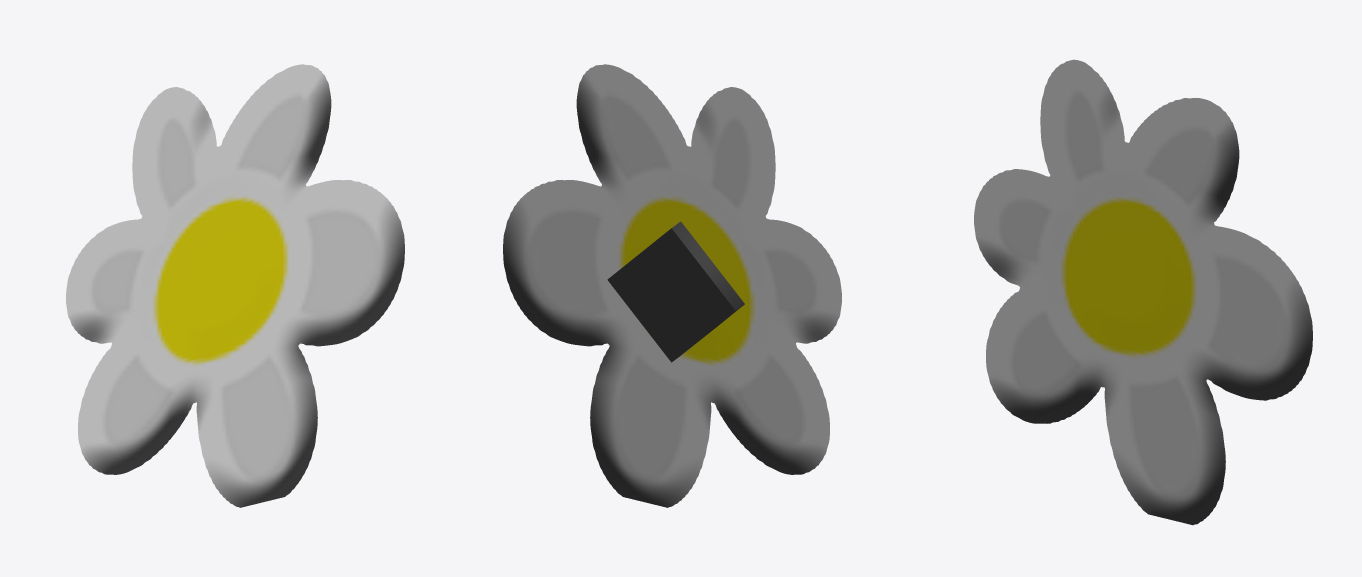
Rendered from Magnet_B.FBX.
3 views of the same model, side by side, from view 1: azimuth 30°, elevation 25°; view 2: azimuth 150°, elevation 25°; view 3: azimuth 330°, elevation 25° (orthographic).
Parts seen in each view (by area): view 1: Fridge_Magnet; view 2: Fridge_Magnet; view 3: Fridge_Magnet.
Part boxes in pixels (left/top/right/bottom): Fridge_Magnet: left=66, top=64, right=404, bottom=507; Fridge_Magnet: left=503, top=64, right=841, bottom=507; Fridge_Magnet: left=974, top=59, right=1312, bottom=525.
Bounding box in the file's own units: 25 × 25 × 0.9737.
